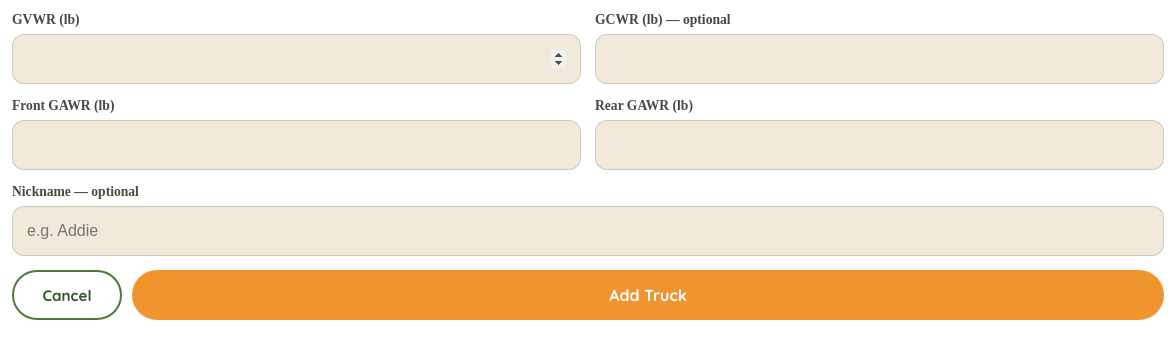
Test: TruckProfileForm › rejects a zero GVWR before submit (Story 15)
Type "0" into the number field labelled "GVWR (lb)" at (296, 59), box [12,34,581,84]
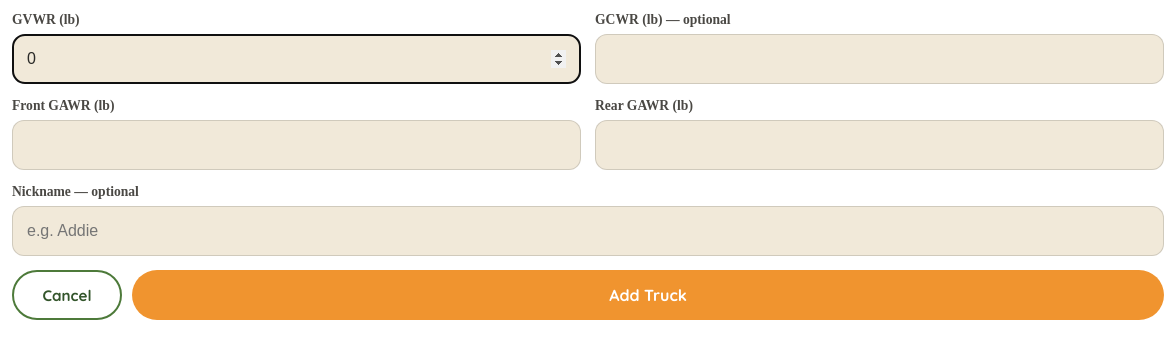
Type "4500" into the number field labelled "Front GAWR (lb)" at (296, 145), box [12,120,581,170]
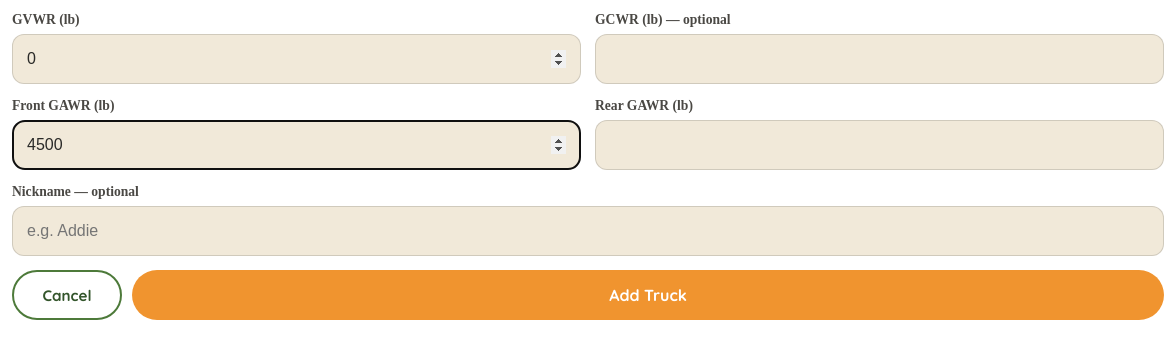
Type "6500" into the number field labelled "Rear GAWR (lb)" at (880, 145), box [595,120,1164,170]
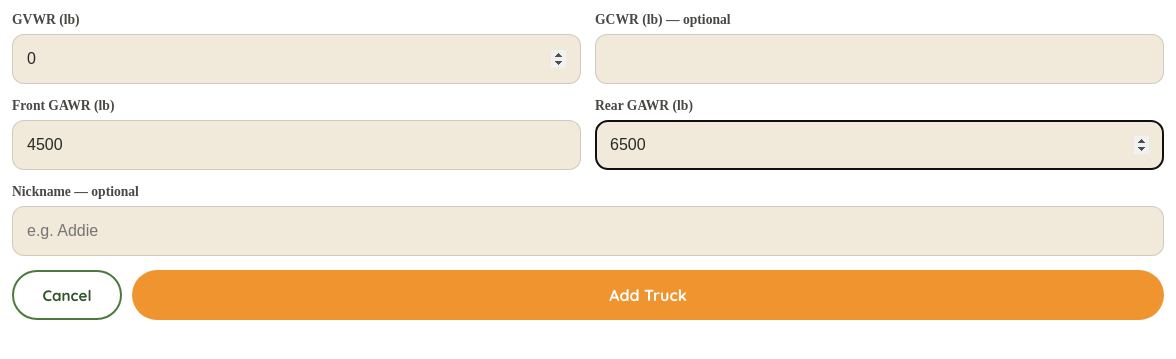
Click the button "Add Truck" at (648, 295), box [132,270,1164,320]
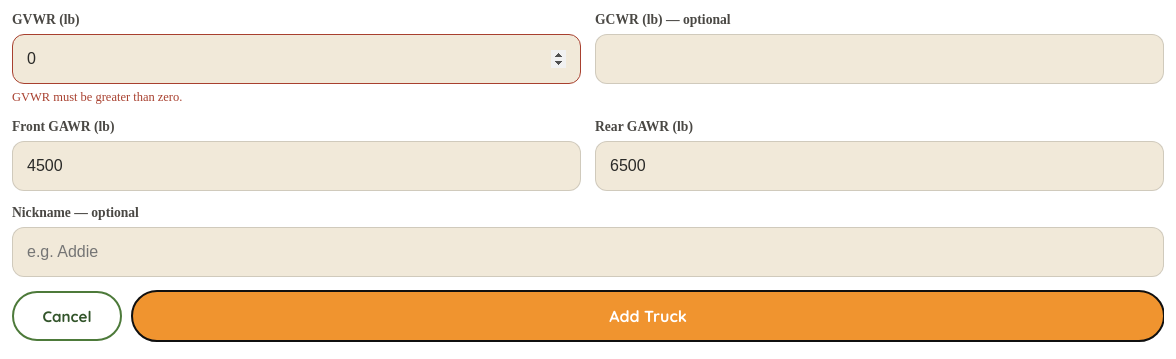
Check: the text "GVWR must be greater than zero." is shown, box [12,90,182,104]
